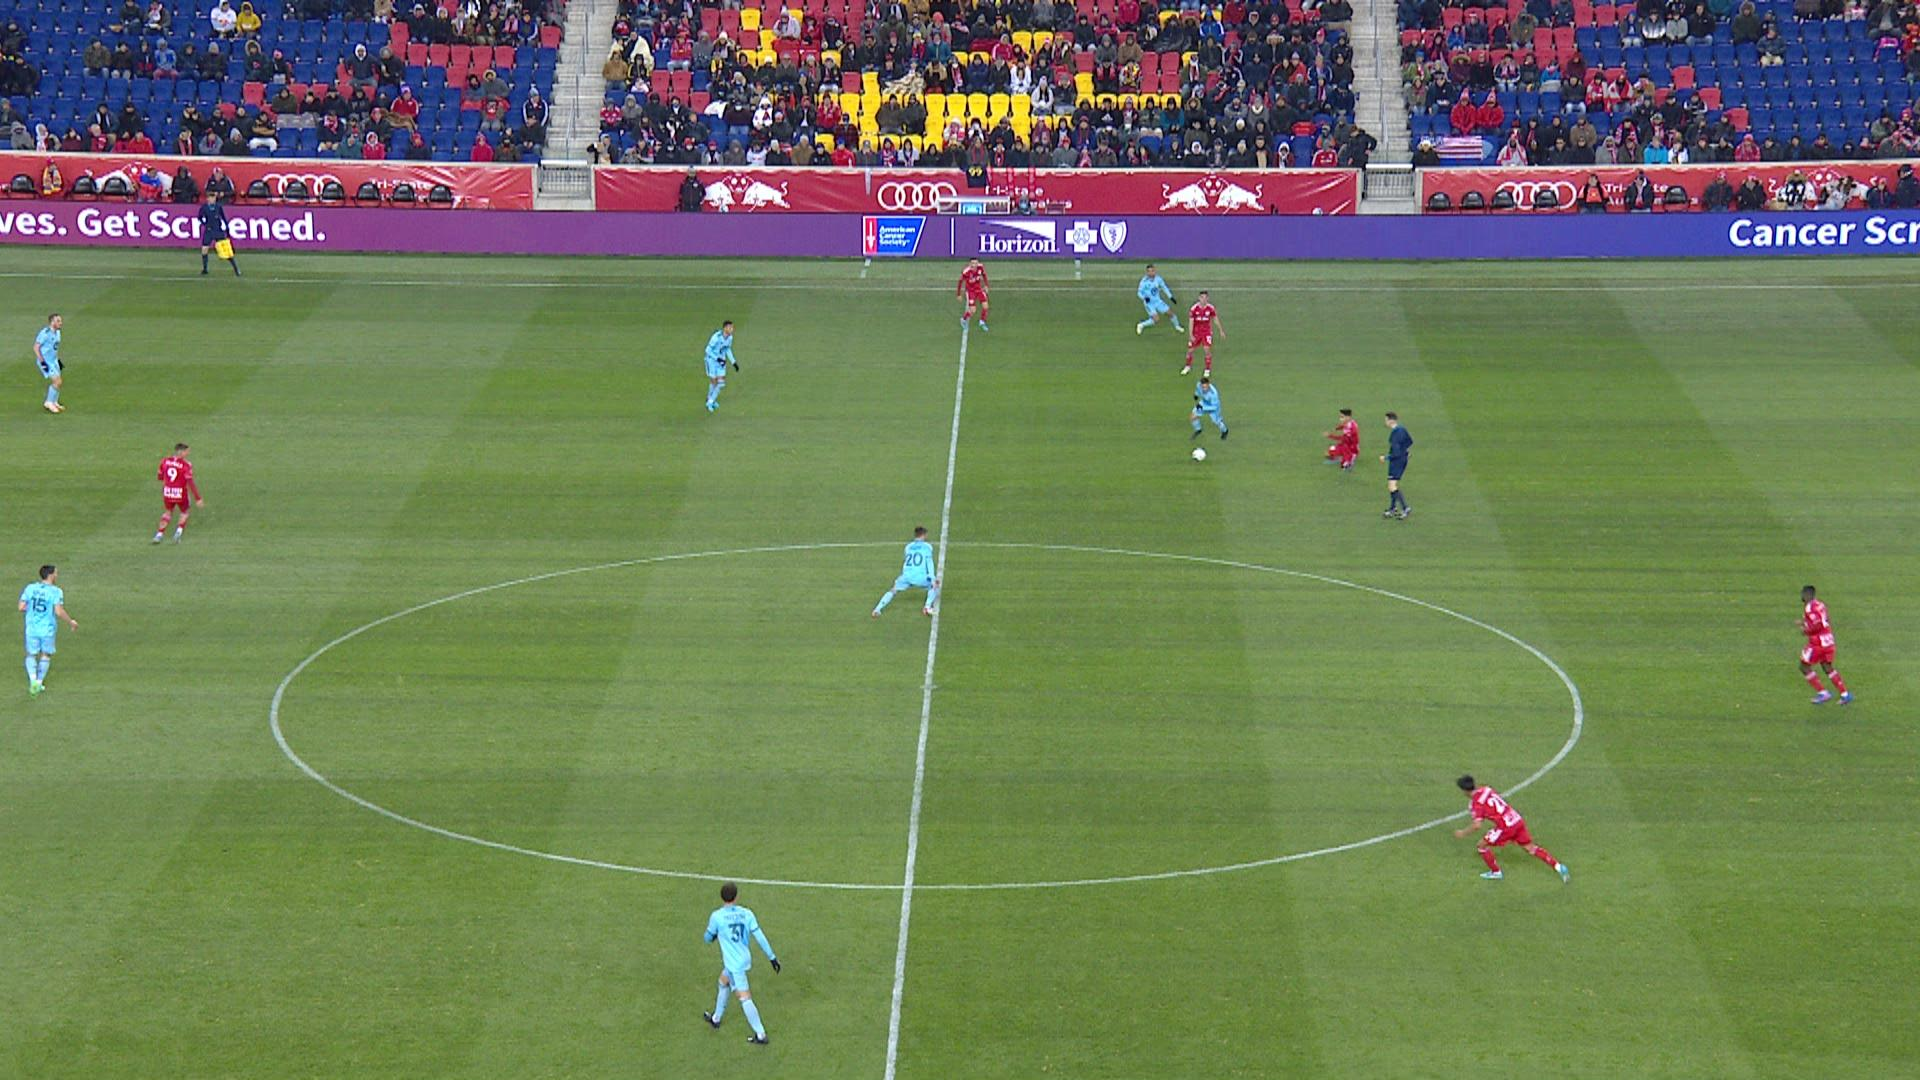football: (1191, 447, 1208, 463)
